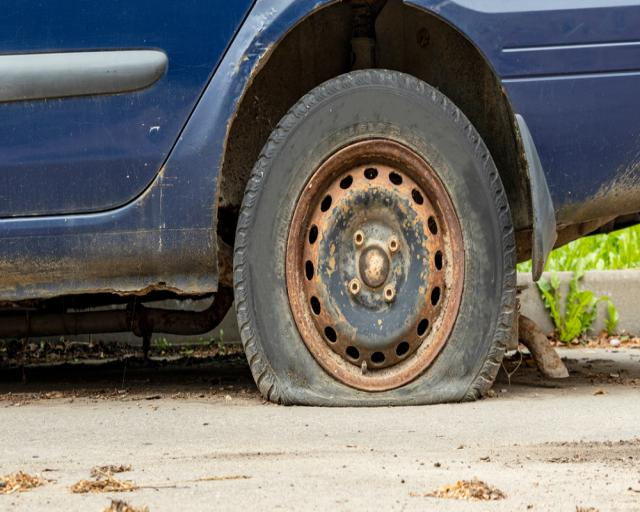tire flat: (232, 68, 518, 407)
